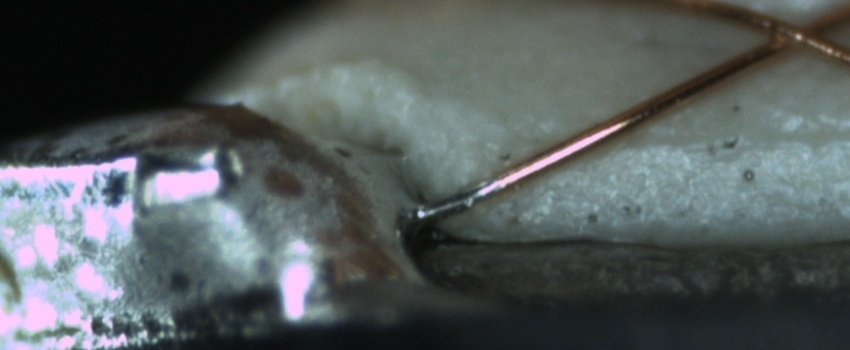CL: (750, 3, 844, 62)
DL: (582, 110, 849, 174)
TS: (418, 176, 501, 225)
